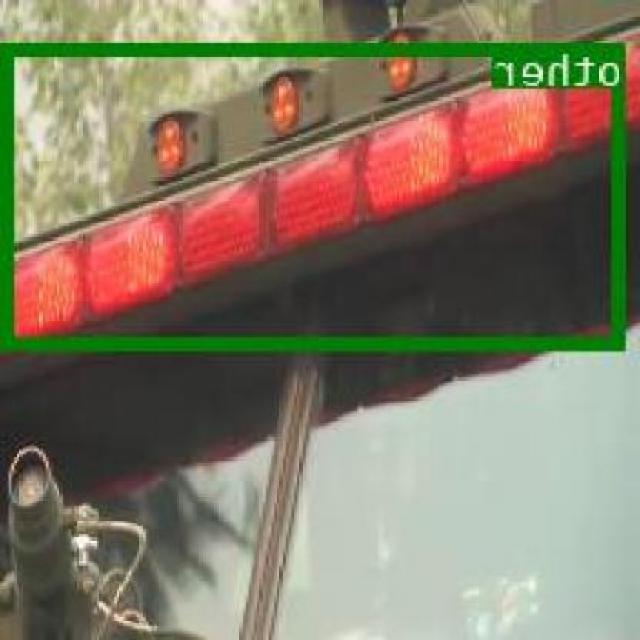other: (6, 40, 628, 346)
